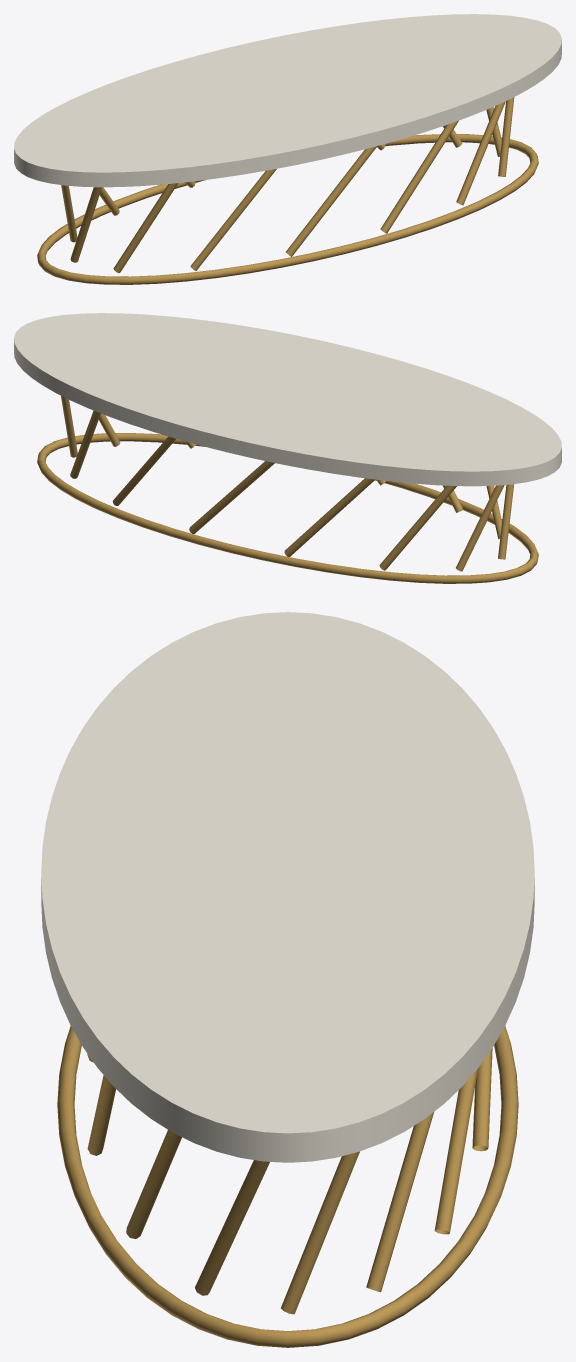
Rendered from wh-white-x-gold-coffee-table.glb.
3 views of the same model, one above another, from view 1: azimuth 30°, elevation 25°; view 2: azimuth 150°, elevation 25°; view 3: azimuth 270°, elevation 25° (orthographic). The views are drawn at different scales.
Parts seen in each view (by area): view 1: Oval white top.001, Oval gold foot rail.001; view 2: Oval white top.001, Oval gold foot rail.001; view 3: Oval white top.001, Oval gold foot rail.001.
Boxes of the visible parts, bbox=[...] form: Oval white top.001: bbox=[14, 14, 561, 187]; Oval gold foot rail.001: bbox=[37, 97, 538, 284]; Oval white top.001: bbox=[14, 313, 561, 486]; Oval gold foot rail.001: bbox=[37, 396, 538, 583]; Oval white top.001: bbox=[41, 612, 534, 1162]; Oval gold foot rail.001: bbox=[57, 1026, 518, 1347].
Size of the model in its own units: 2 by 0.43 by 0.8.
